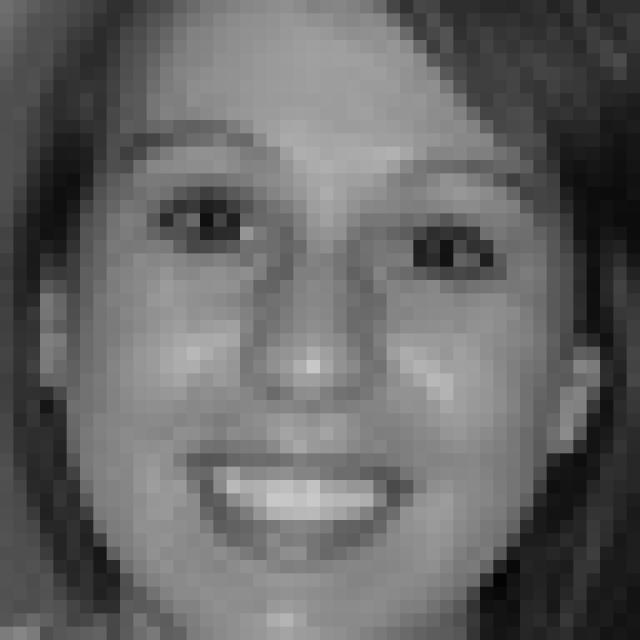happy: (101, 114, 552, 579)
